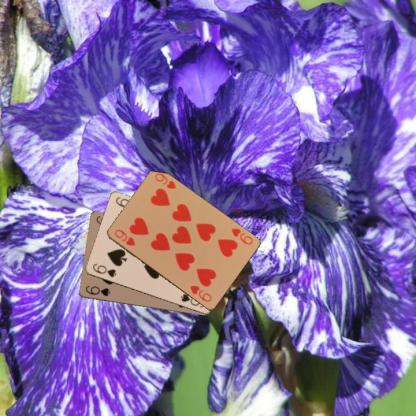6s: (90, 261, 117, 279), (83, 283, 111, 298)
9h: (228, 225, 254, 246), (112, 226, 136, 247)
